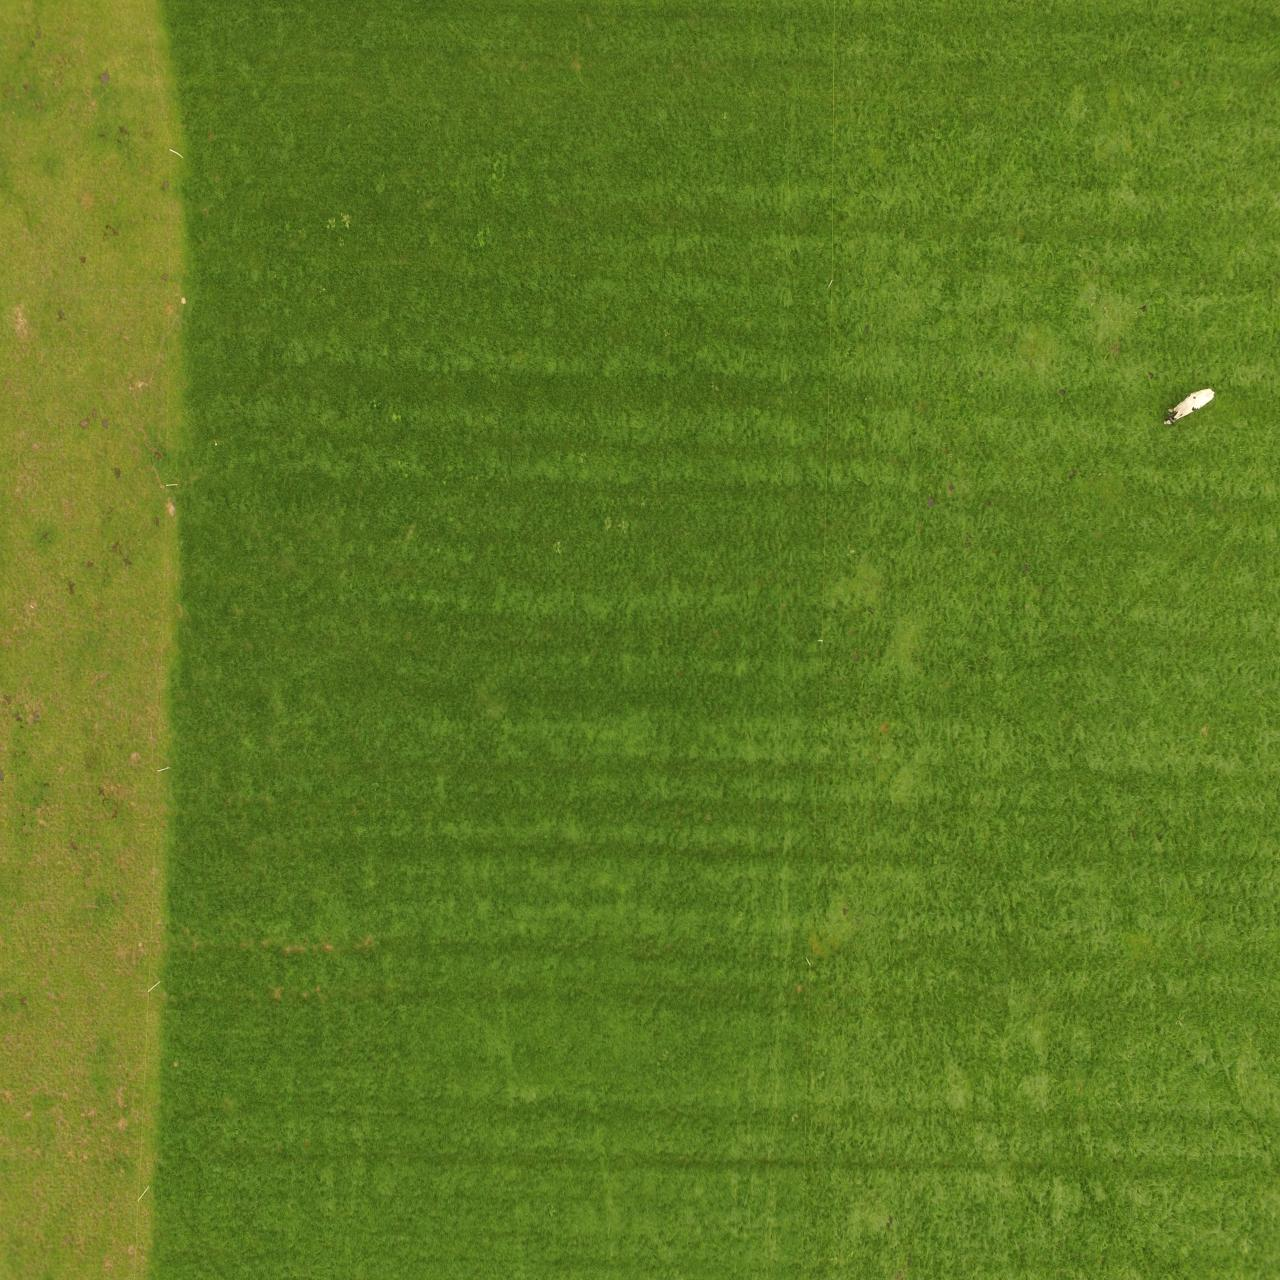cow: (1159, 384, 1218, 427)
